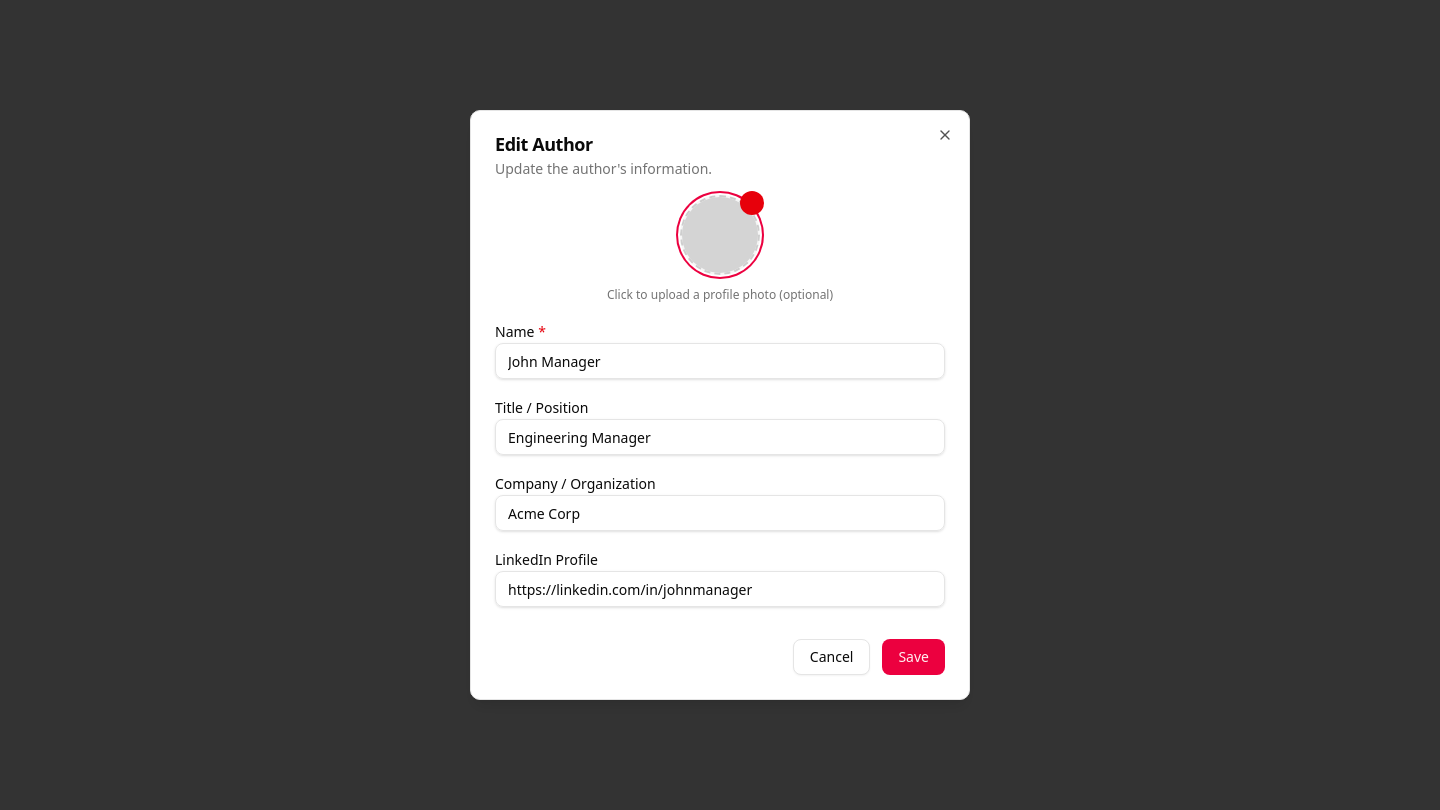
AuthorEditModal › Image Upload › removes image preview when remove button is clicked
The image size is (1440, 810).
# Click remove button
Click the button named "remove photo" at (752, 203), box [740,191,764,215]
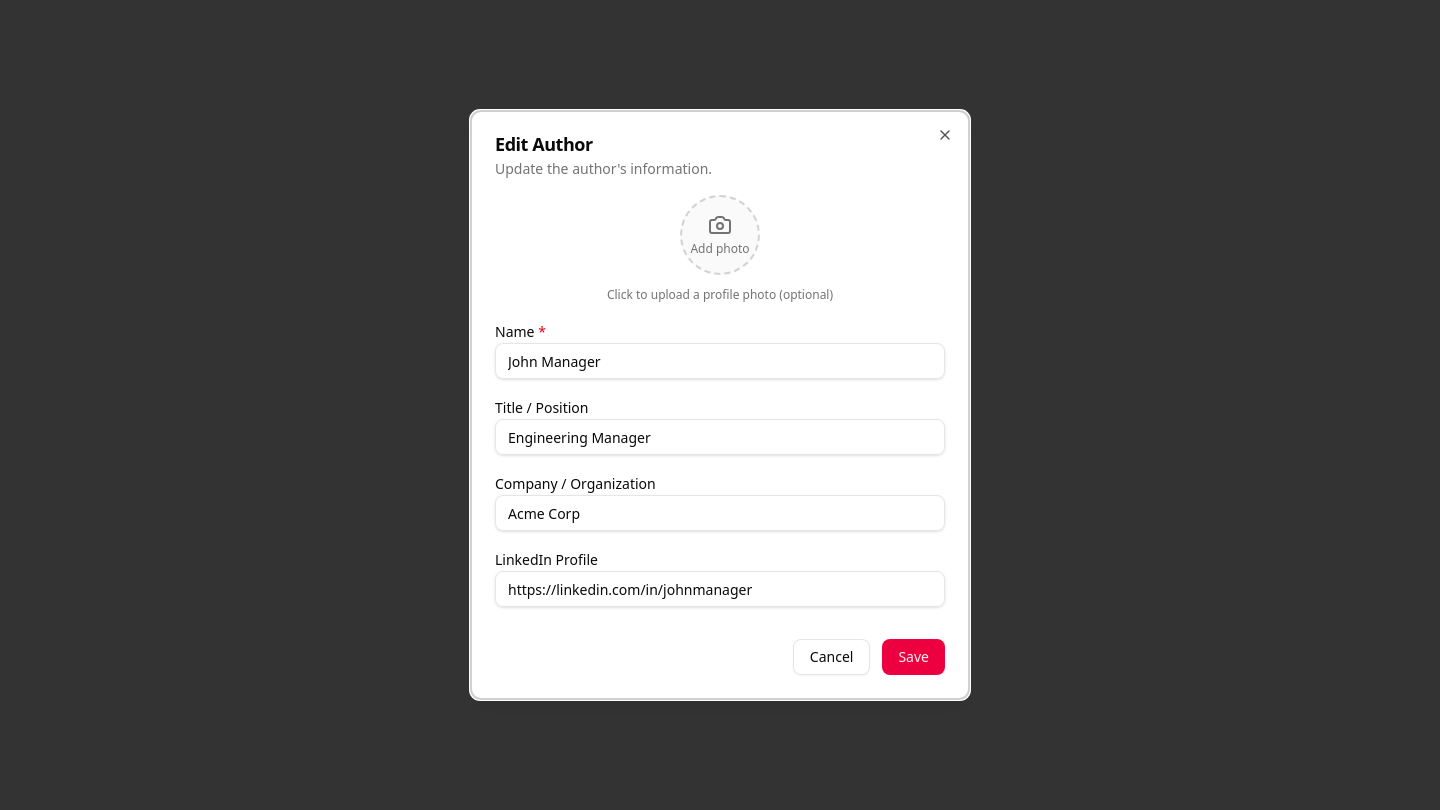
Expected: the text "Add photo" is shown, [690,241,750,257]
